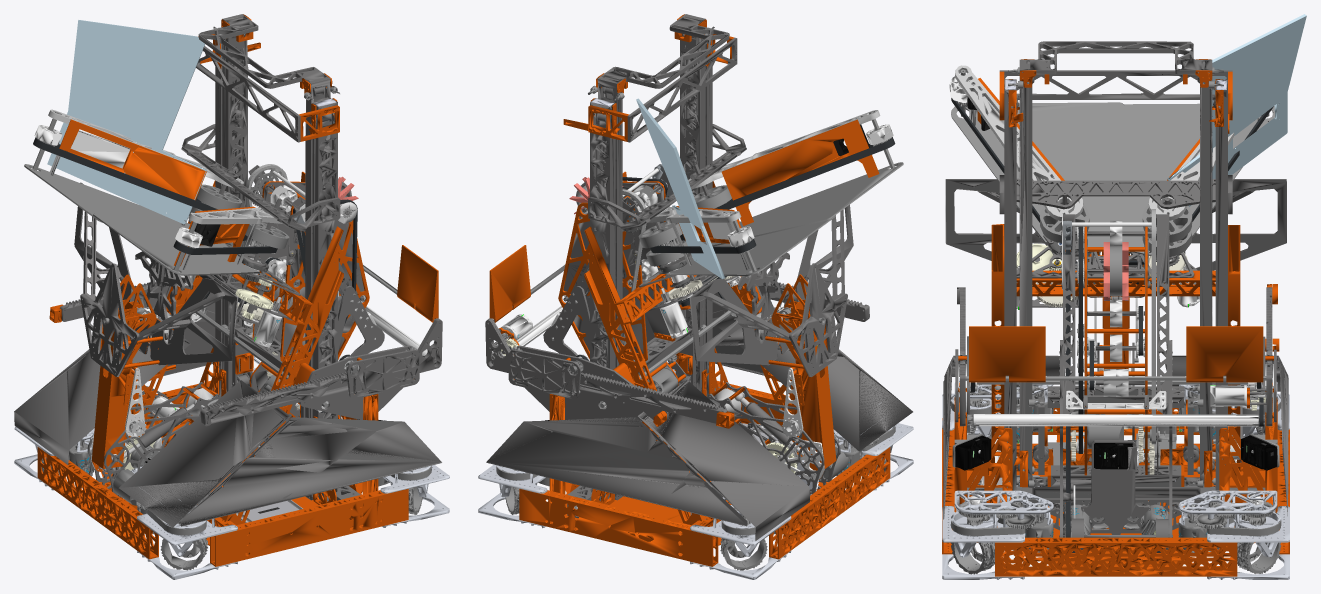
Rendered from redundancy-190.glb.
3 views of the same model, side by side, from view 1: azimuth 30°, elevation 25°; view 2: azimuth 150°, elevation 25°; view 3: azimuth 270°, elevation 25° (orthographic). The views are drawn at different scales.
Visible parts, largest first — view 1: frame, climber, intake, elevator-stage, effector, algae, carriage; view 2: frame, climber, intake, elevator-stage, effector, algae, carriage; view 3: frame, intake, elevator-stage, effector, algae, climber, carriage.
Boxes of the visible parts, <box> form: frame: <box>14,20,449,579</box>; climber: <box>74,182,238,471</box>; intake: <box>49,171,442,426</box>; elevator-stage: <box>198,14,332,441</box>; effector: <box>246,164,369,422</box>; algae: <box>248,165,384,418</box>; carriage: <box>221,324,305,436</box>; frame: <box>478,26,913,579</box>; climber: <box>689,204,853,479</box>; intake: <box>485,171,869,428</box>; elevator-stage: <box>596,14,729,441</box>; effector: <box>558,177,686,422</box>; algae: <box>543,164,673,356</box>; carriage: <box>633,324,706,436</box>; frame: <box>942,14,1306,579</box>; intake: <box>955,284,1279,433</box>; elevator-stage: <box>1014,41,1217,498</box>; effector: <box>1061,209,1169,475</box>; algae: <box>1059,214,1172,552</box>; climber: <box>945,179,1286,369</box>; carriage: <box>1028,385,1203,487</box>.
Size of the model in its own units: 0.7119 by 1.06 by 0.7455.
